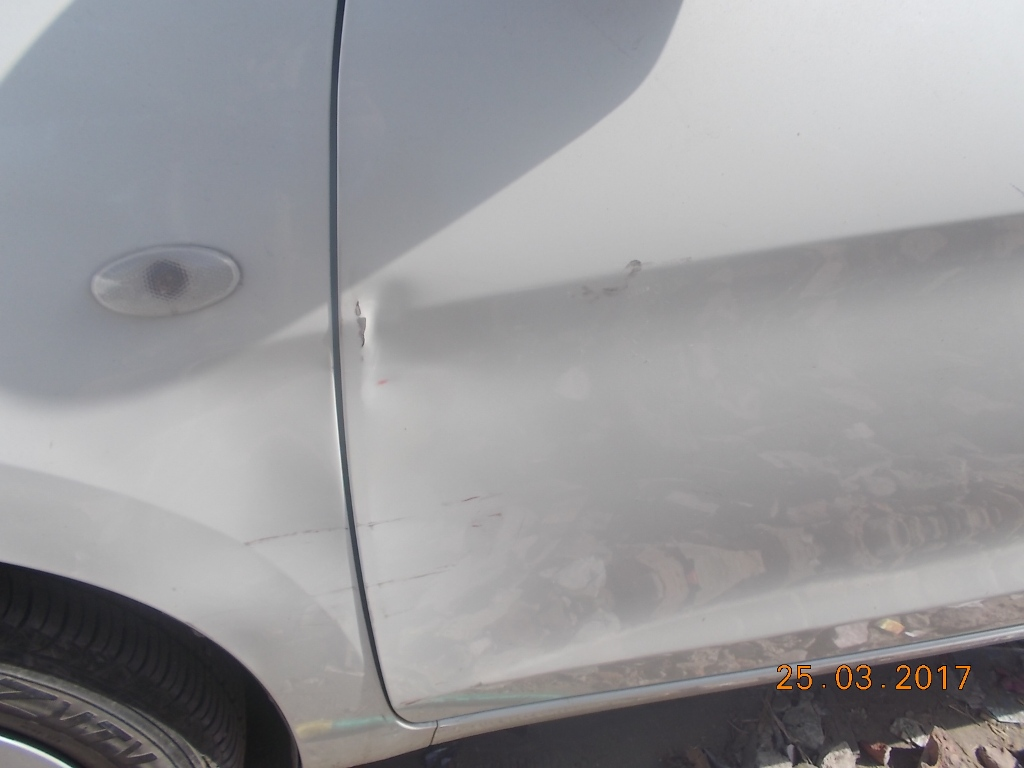Scratch_or_spot: (350, 298, 366, 361)
